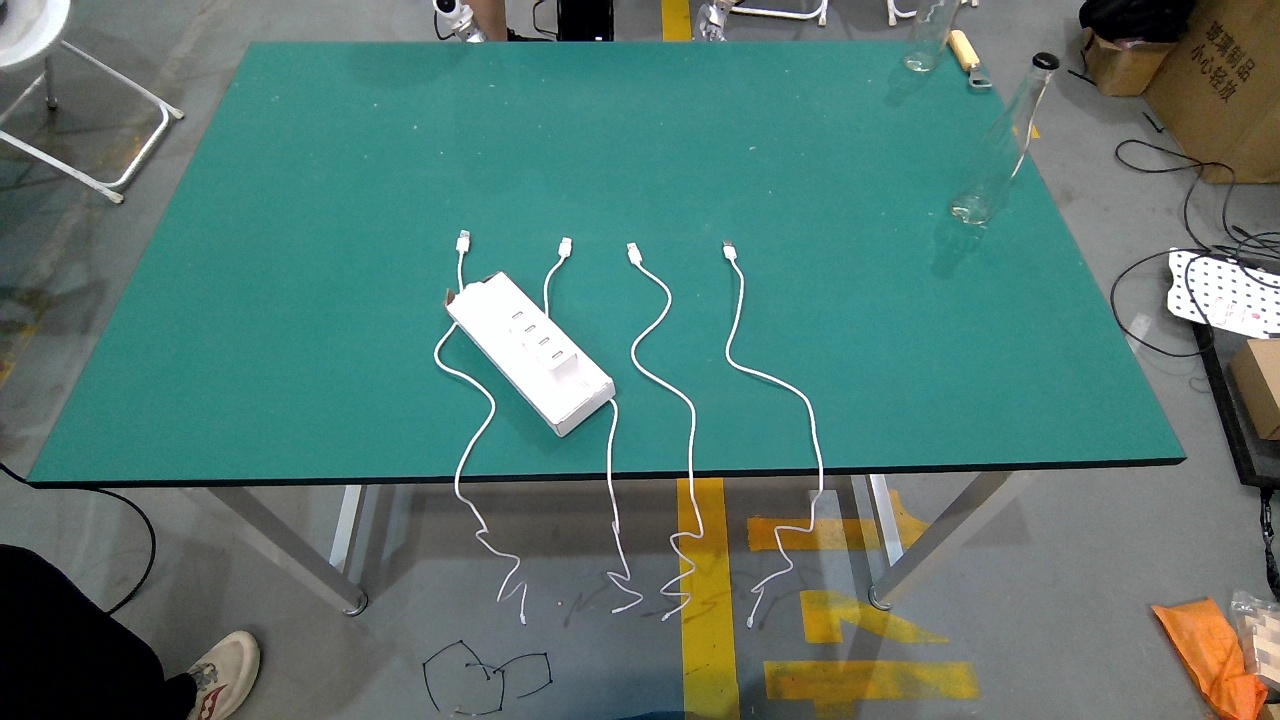usb_a_plug: (624, 240, 645, 271), (720, 237, 739, 265), (455, 229, 470, 259), (557, 236, 572, 262)
